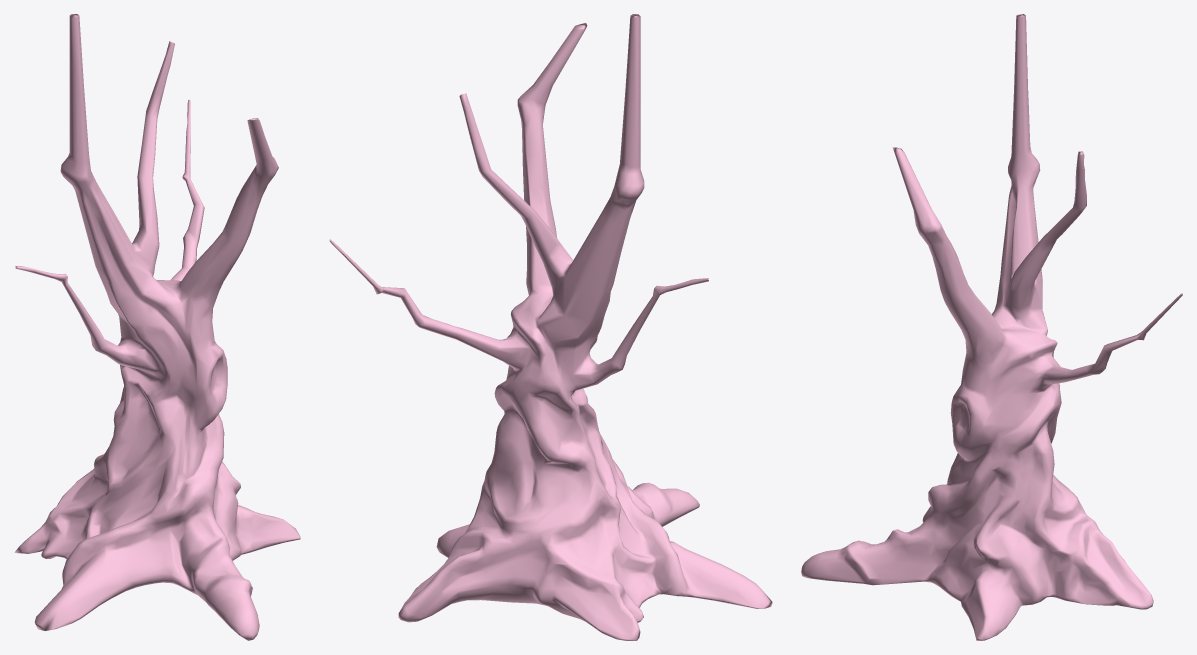
The model's file is tree_ZB.fbx.
The picture shows the model from 3 angles, left to right: view 1: azimuth 30°, elevation 25°; view 2: azimuth 150°, elevation 25°; view 3: azimuth 270°, elevation 25°; orthographic projection. The views are drawn at different scales.
Visible parts, largest first — view 1: tree_heighZB.001; view 2: tree_heighZB.001; view 3: tree_heighZB.001.
Part boxes in pixels (bbox=[...]): tree_heighZB.001: bbox=[14, 14, 300, 640]; tree_heighZB.001: bbox=[329, 14, 772, 640]; tree_heighZB.001: bbox=[801, 14, 1182, 640].
Size of the model in its own units: 503 by 946 by 610.
